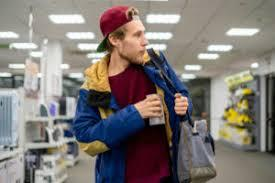shoplifting: (90, 63, 227, 175)
